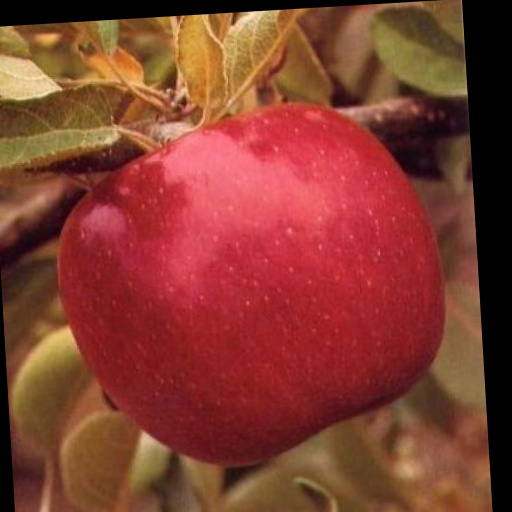fruit: (60, 105, 443, 464)
